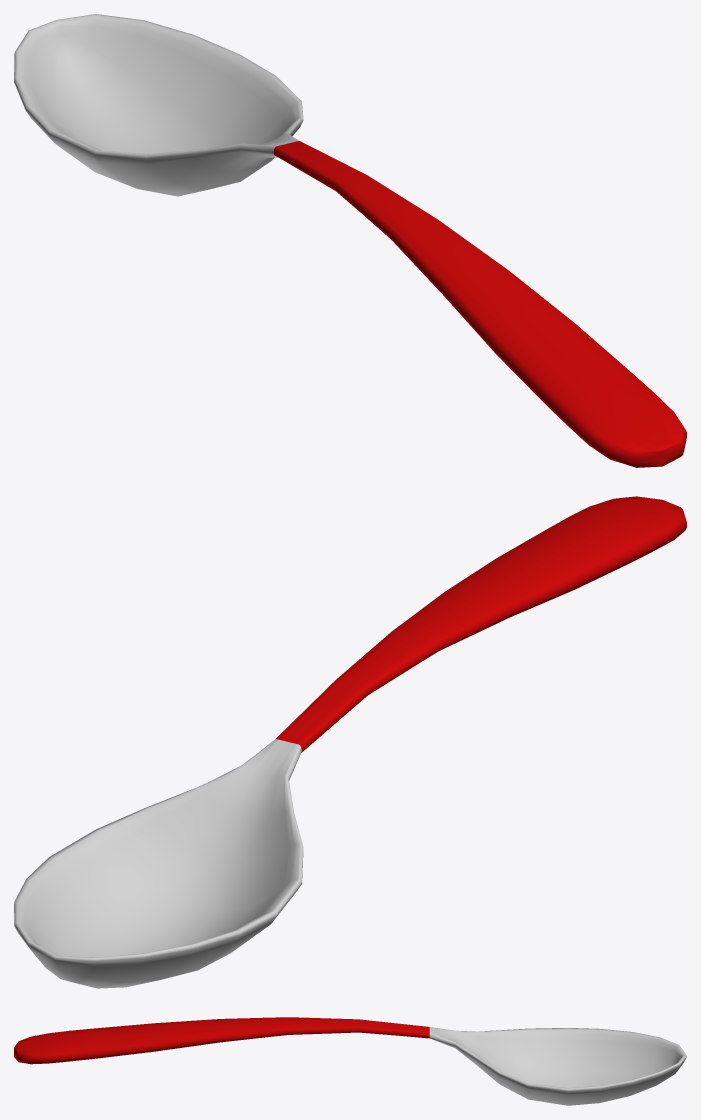
The model's file is TeaSpoon.obj.
3 views of the same model, one above another, from view 1: azimuth 30°, elevation 25°; view 2: azimuth 150°, elevation 25°; view 3: azimuth 270°, elevation 25° (orthographic). The views are drawn at different scales.
Visible parts, largest first — view 1: Teapot; view 2: Teapot; view 3: Teapot.
Part boxes in pixels (bbox=[...]): Teapot: bbox=[14, 14, 686, 467]; Teapot: bbox=[14, 496, 686, 988]; Teapot: bbox=[14, 1017, 686, 1105].
Size of the model in its own units: 0.263 by 0.1523 by 1.21.
